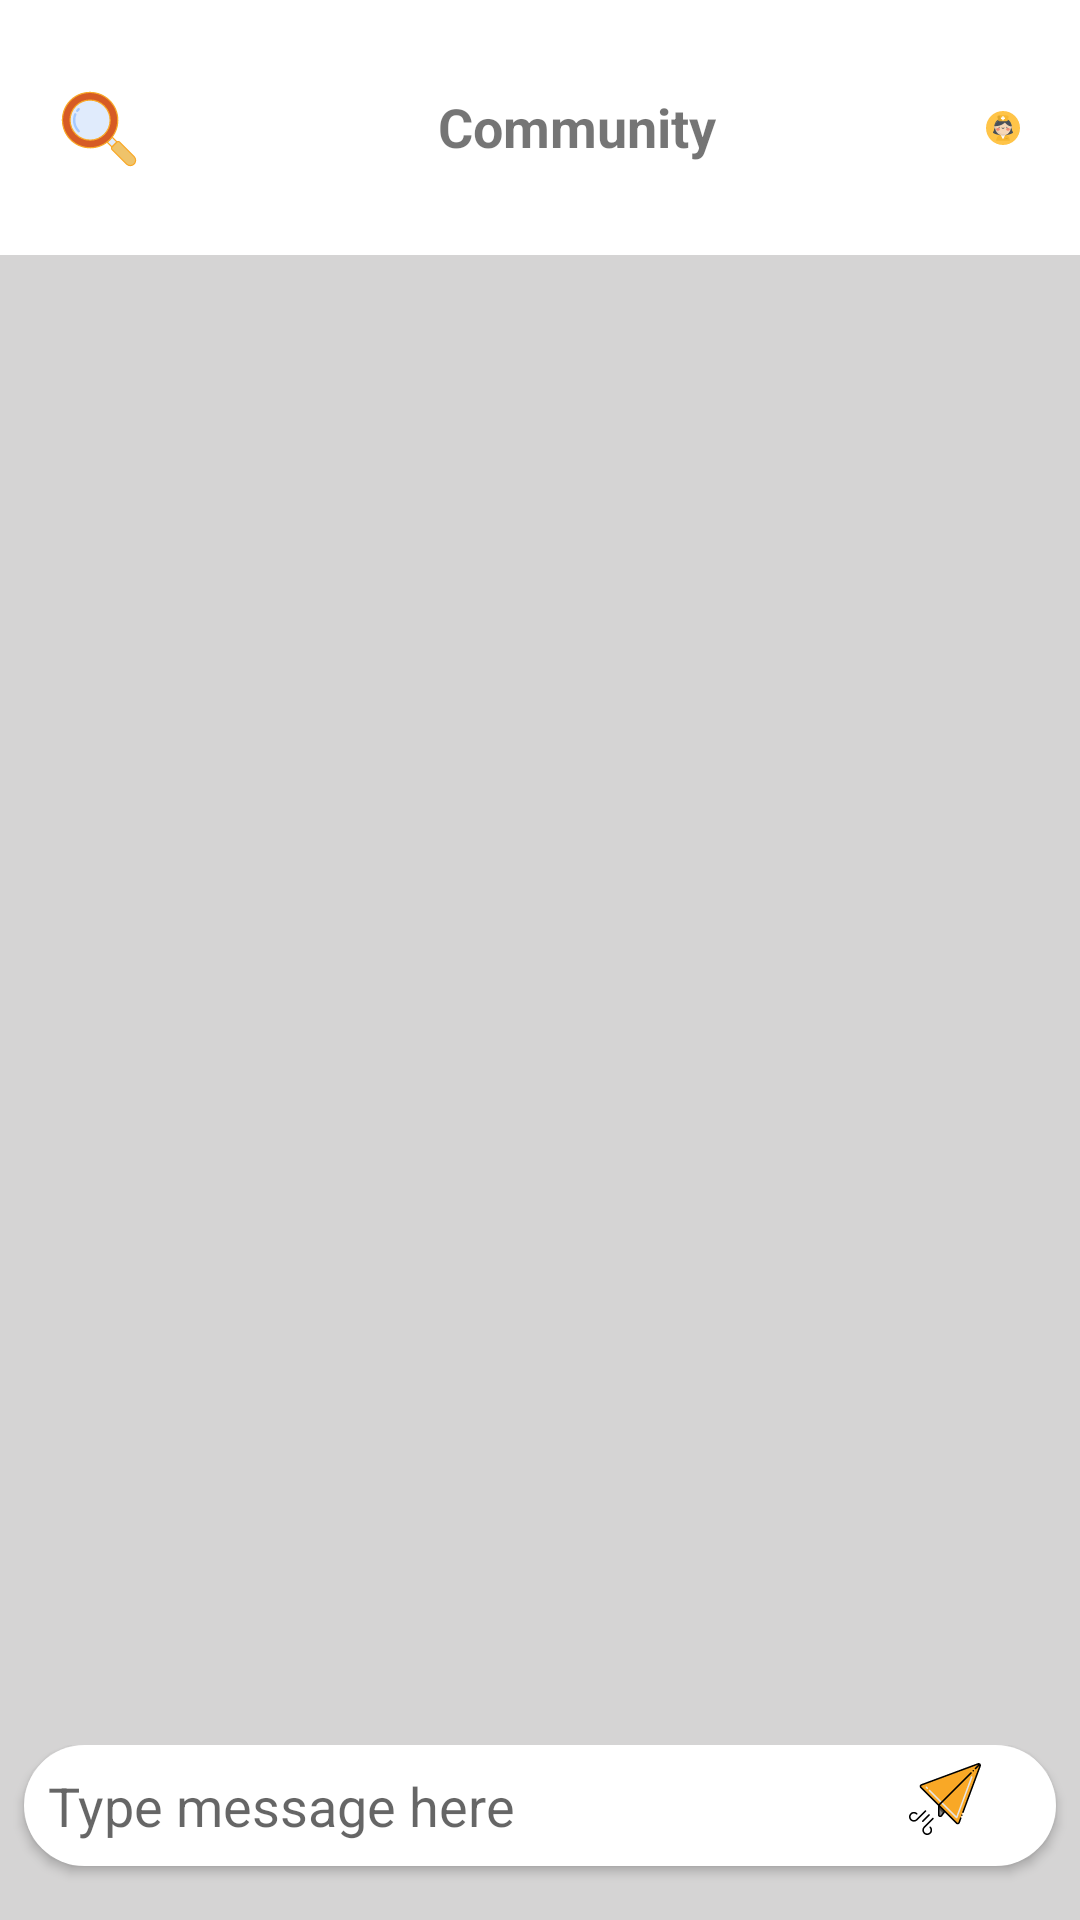

Icon click points for this 1080px×1920px phone screenshot, format (x=x, y=y):
search: (x=99, y=129)
send: (x=945, y=1799)
